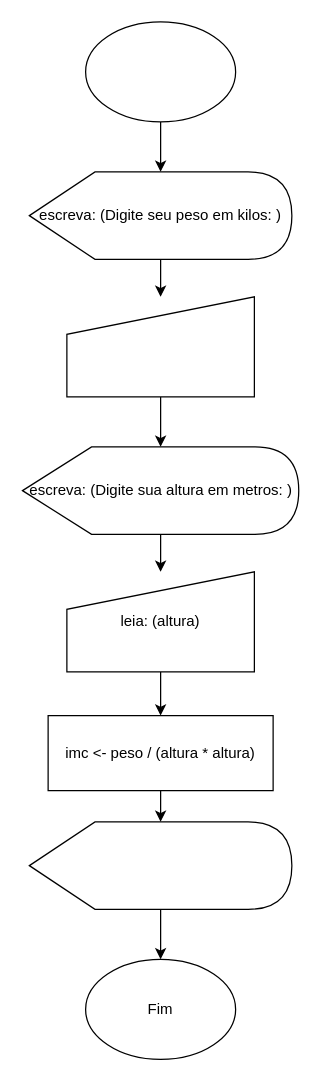
The diagram is 320 pixels wide and 1081 high, and some of its shapes have lost their labels. Here are the shapes that lost their labels. From the top down, the box of each, then its label:
(84, 21, 236, 122): Início
(66, 296, 254, 397): leia: (peso )
(28, 821, 292, 909): escreva: ("Seu IMC é: " imc )
